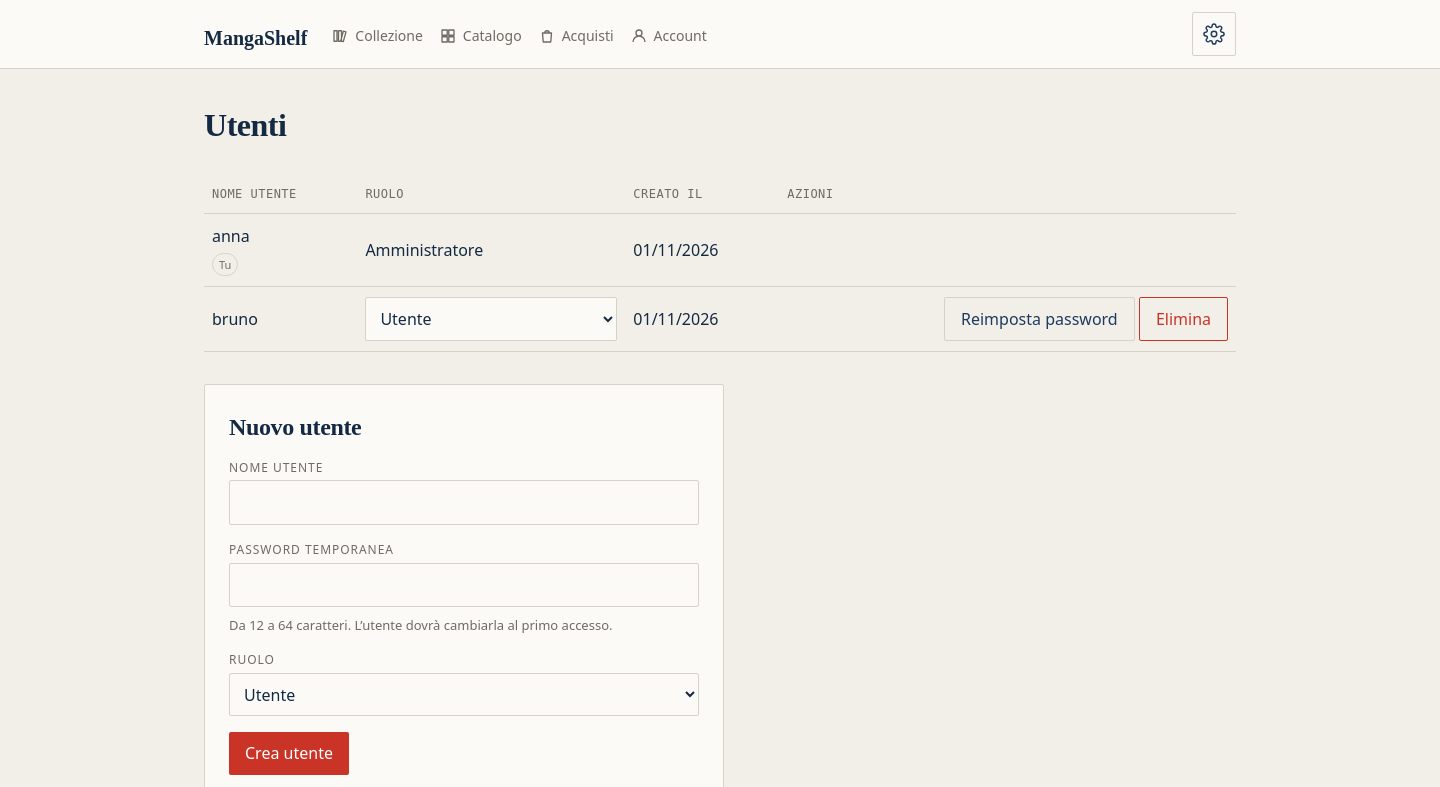
Test: users page › deleteConflictShown
Click the button "Elimina" at (1183, 319), box [1139, 297, 1228, 341]
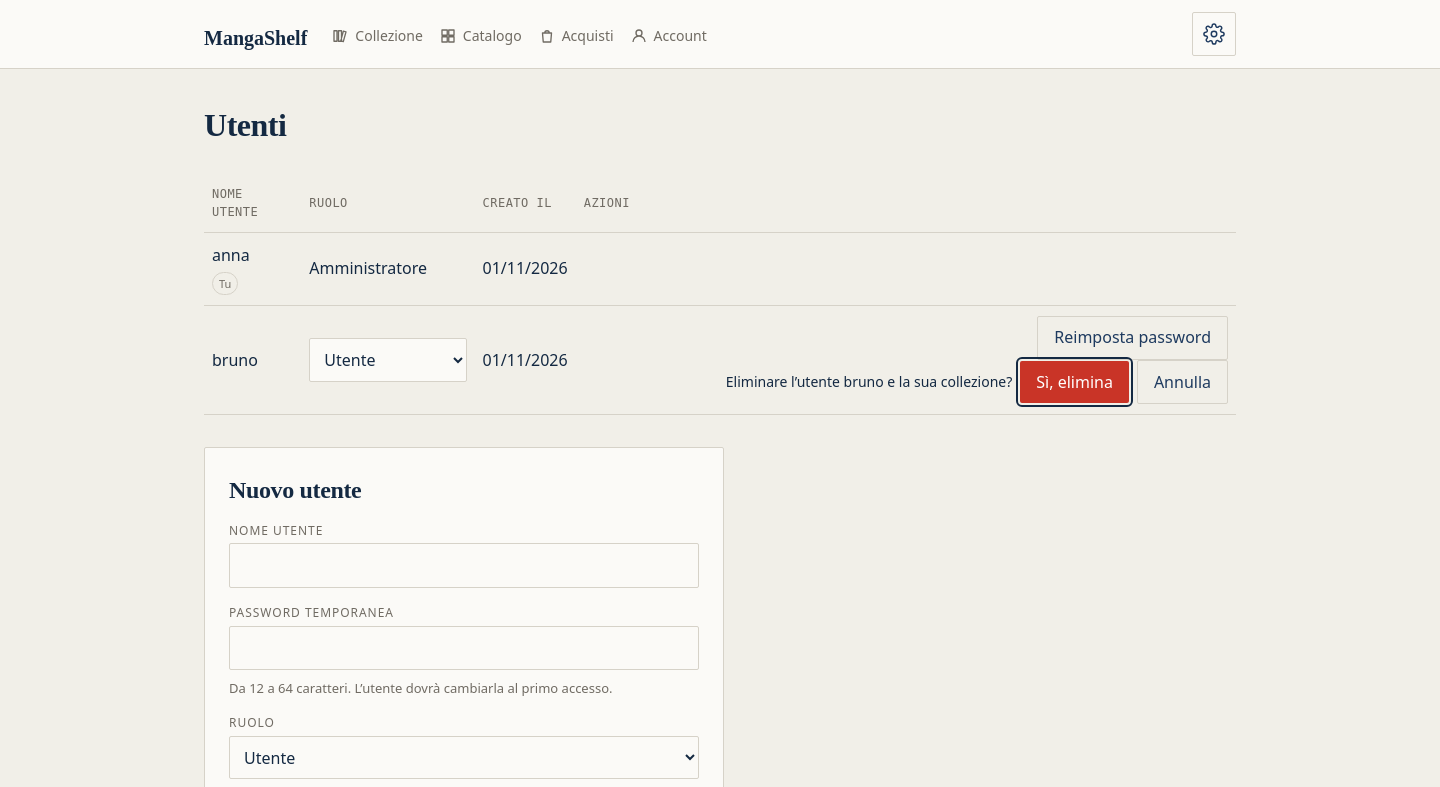
Click the button "Sì, elimina" at (1075, 382), box [1020, 361, 1129, 403]
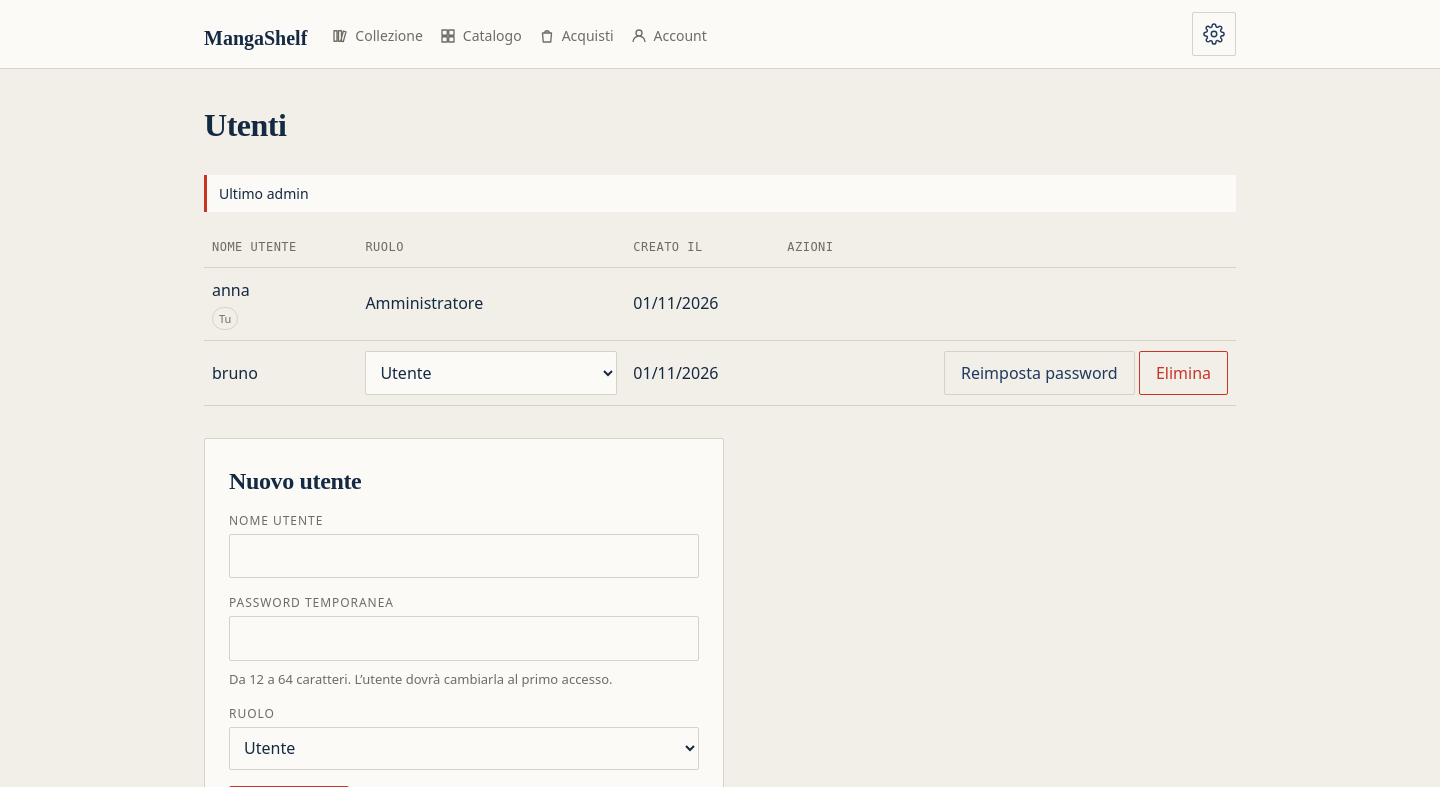
Result: the message reads "Ultimo admin" at [219, 184, 308, 203]
